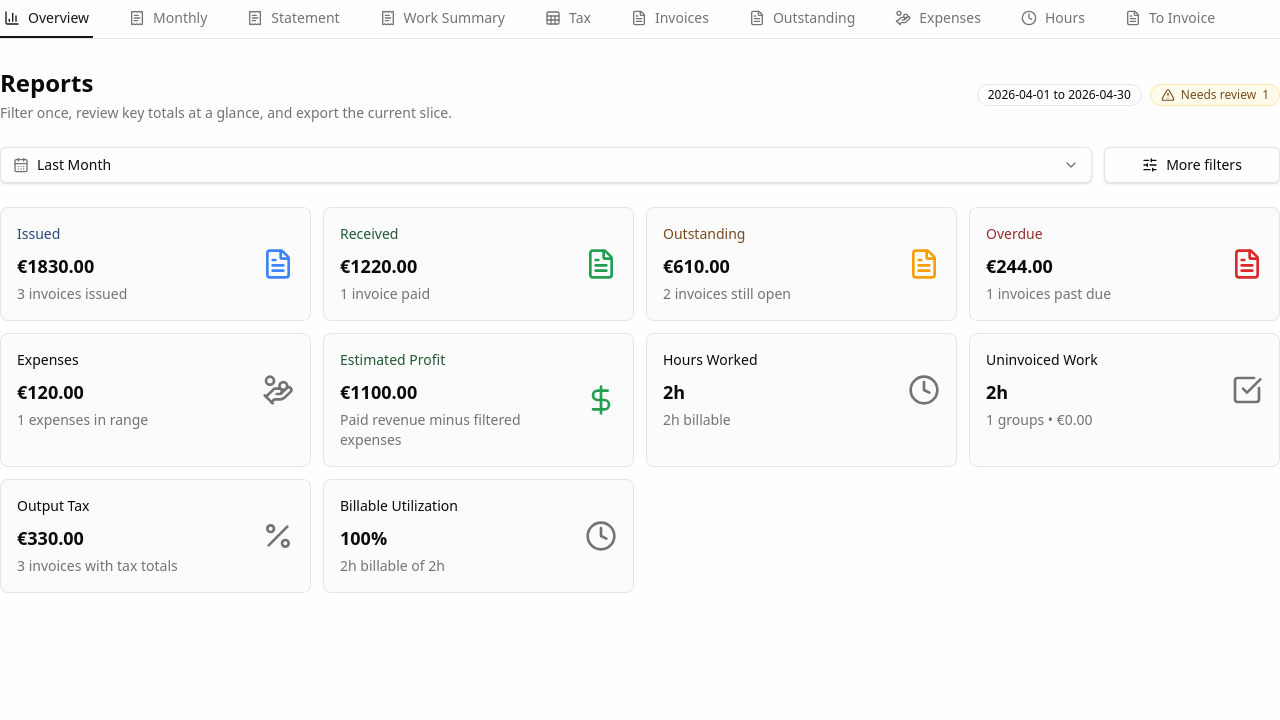
Reports › shows review issues as a header tag and opens details on click
Click the button with aria-label "Needs review: 1 record": (1215,95) [1150, 84, 1279, 106]
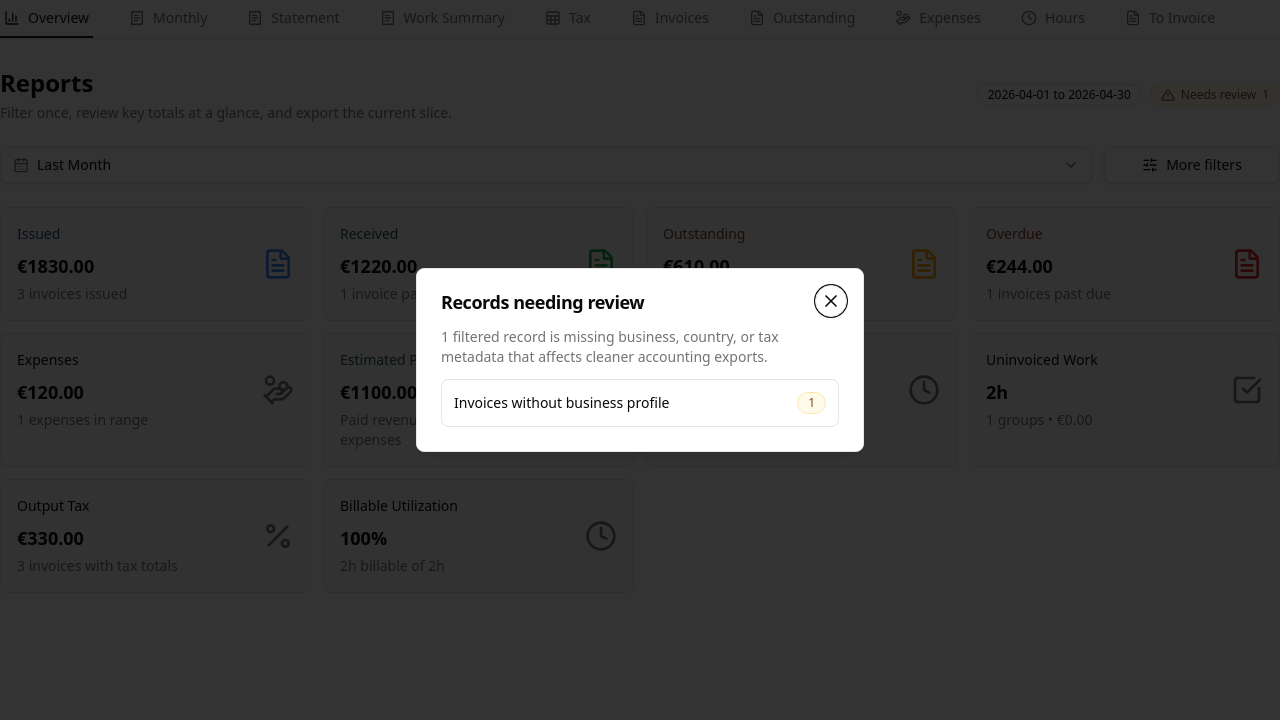
Expected: the heading "Records needing review" is shown, [441, 290, 644, 314]
Expected: the text "Invoices without business profile" is shown, [454, 393, 669, 413]
